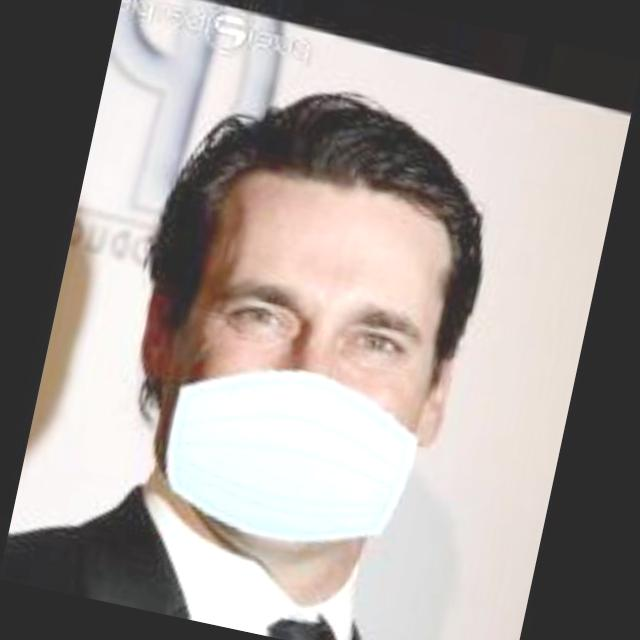suspicion: (94, 87, 520, 586)
